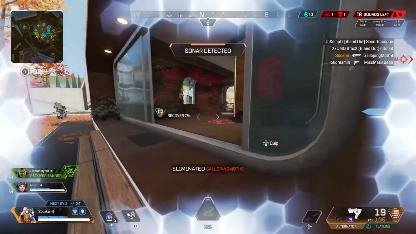Target: (53, 102, 69, 119)
